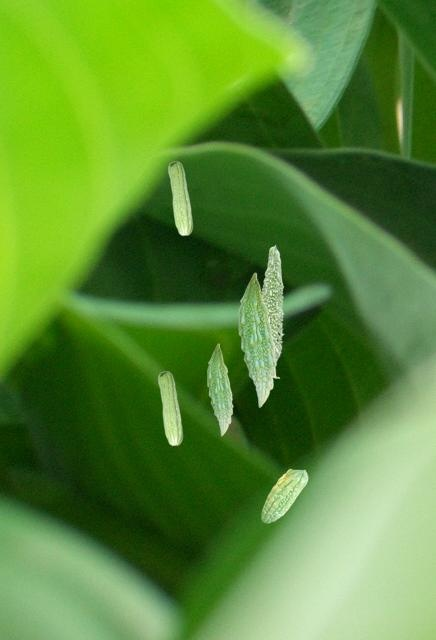ampalaya: (238, 272, 277, 408), (262, 244, 285, 378), (261, 468, 308, 523), (206, 343, 233, 436), (157, 370, 183, 446), (167, 160, 193, 236)
